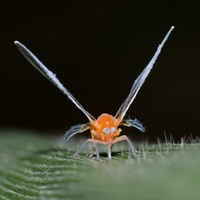insect: (14, 26, 173, 158)
